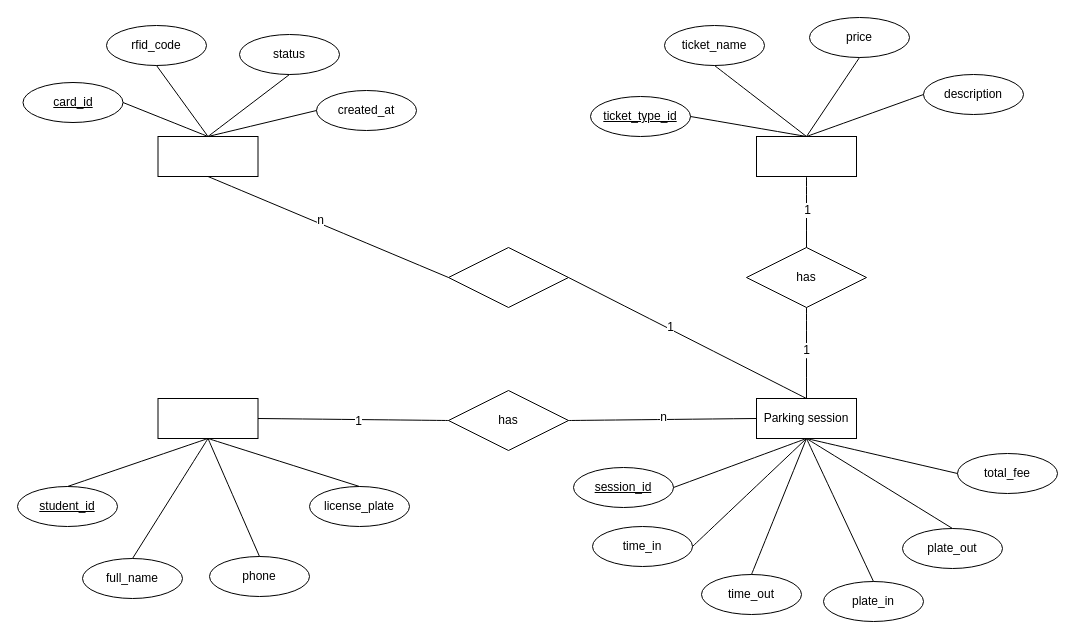
The diagram is 1075 pixels wide and 639 high, and some of its shapes have lost their labels. Here are the shapes that lost their labels. From the top down, the centre of each, then its label:
the point at 207,156: Card
the point at 806,156: Ticket type
the point at 508,277: uses
the point at 207,418: Student
